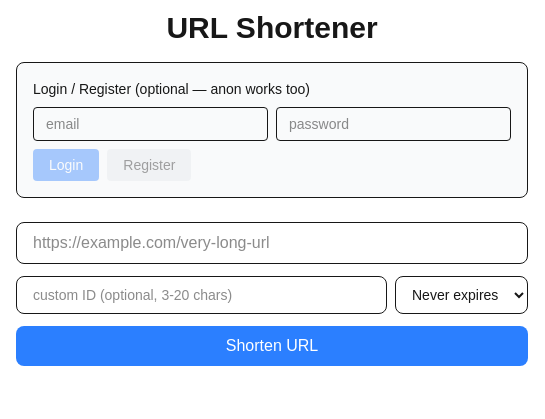
Test case: Home Page › shows API error detail from response
Type "not-a-url" into the field with placeholder "https://example.com/very-long-url" at coordinates (272, 243), box x1=16 y1=222 x2=528 y2=264
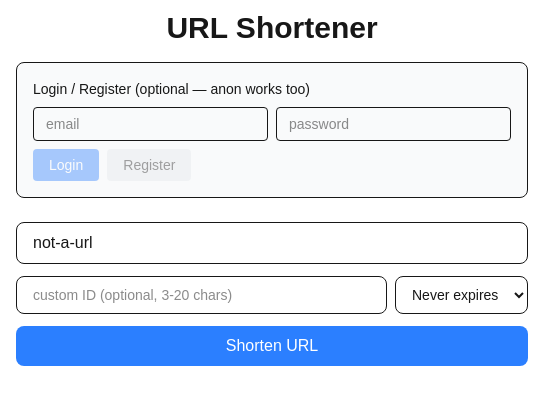
Submit the form with placeholder "https://example.com/very-long-url", box x1=16 y1=222 x2=528 y2=366
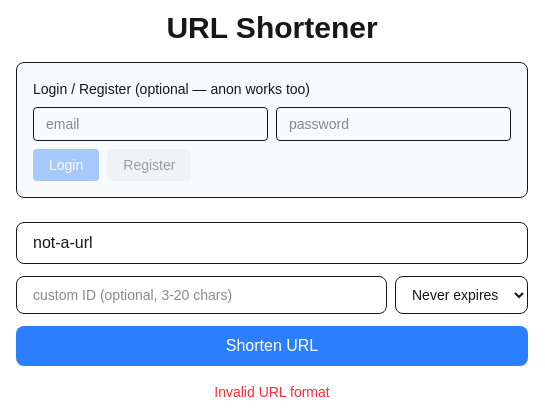
Now the text "Invalid URL format" is shown, box x1=214 y1=382 x2=330 y2=402
